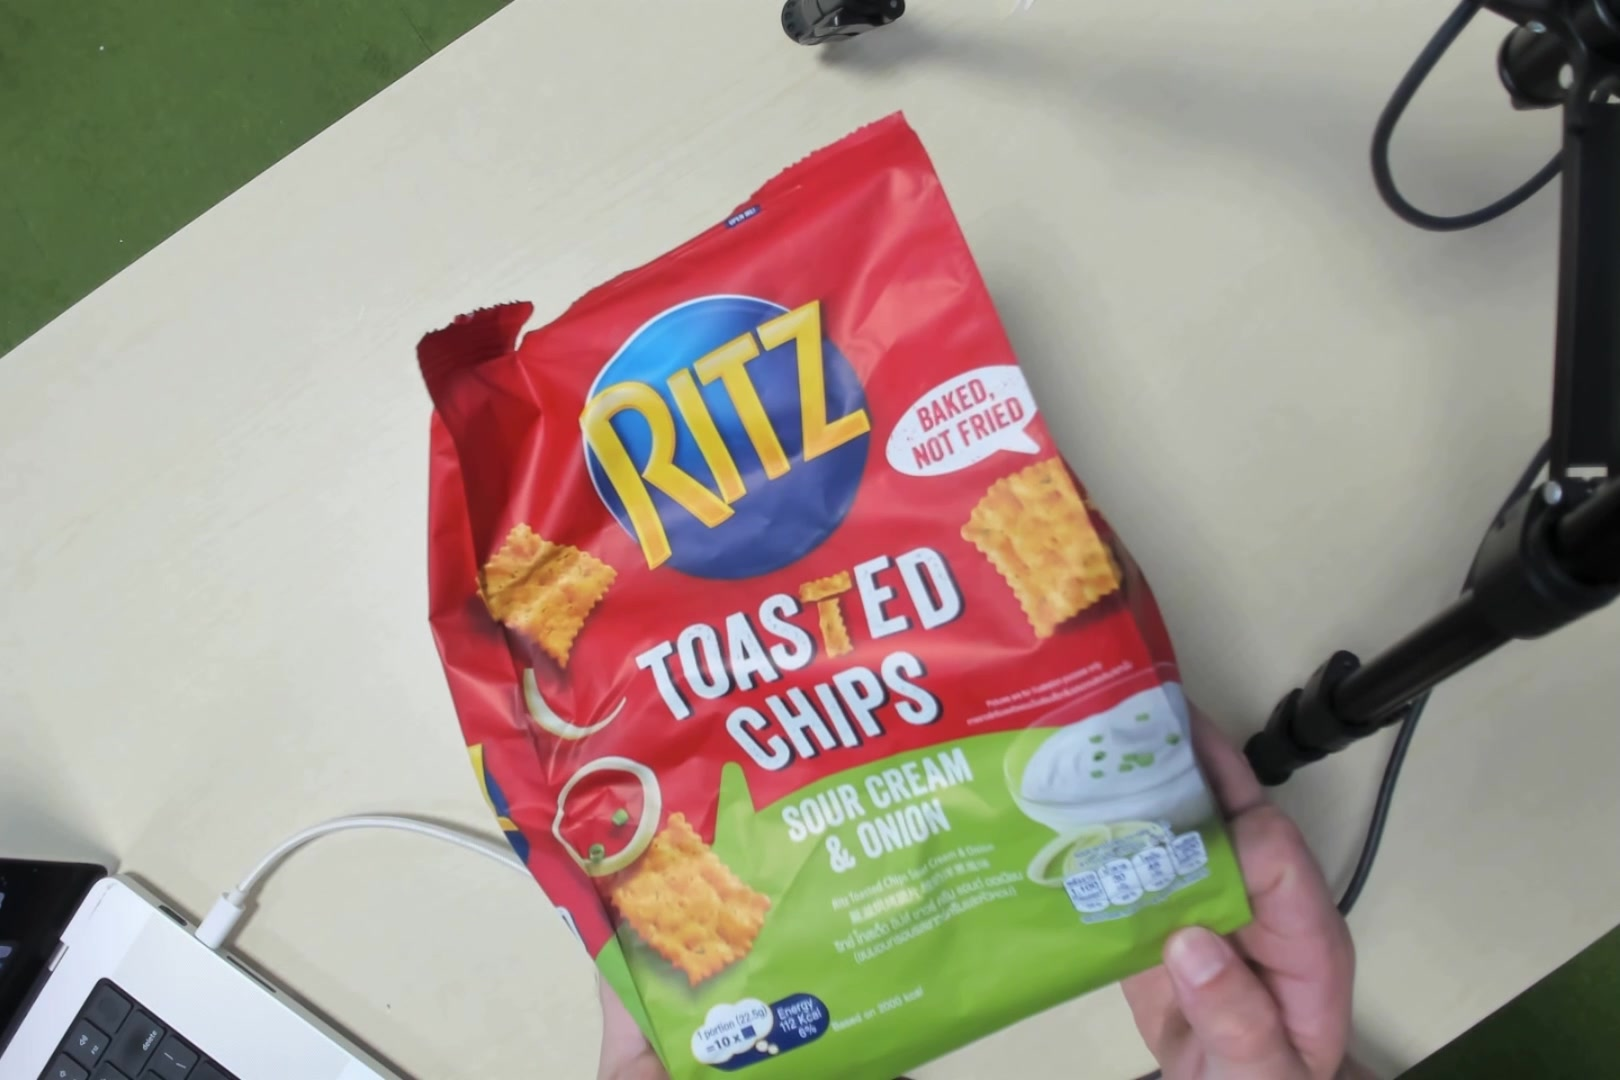BiscuitsCrackersCookies_200-299g_NonHalal_NonHealthy: (493, 174, 1156, 1044)
